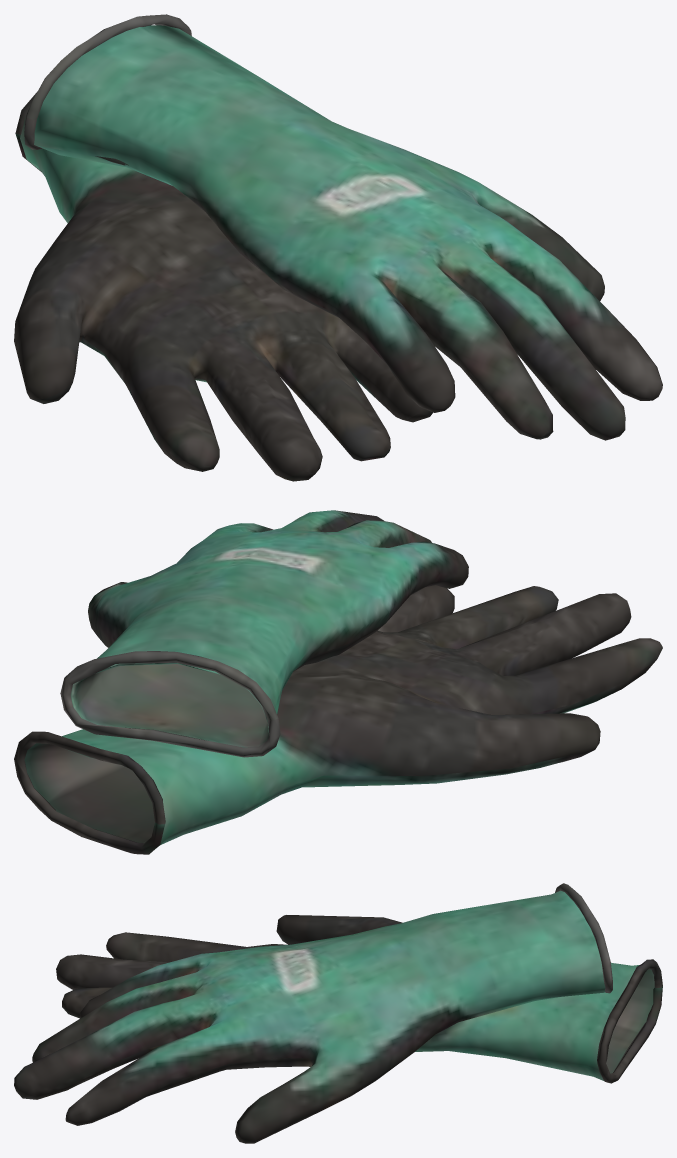
Rendered from gloves.glb.
The picture shows the model from 3 angles, top to bottom: view 1: azimuth 30°, elevation 25°; view 2: azimuth 150°, elevation 25°; view 3: azimuth 270°, elevation 25°; orthographic projection. The views are drawn at different scales.
Parts seen in each view (by area): view 1: garden_gloves_01; view 2: garden_gloves_01; view 3: garden_gloves_01.
Part boxes in pixels (x1=…): garden_gloves_01: x1=14, y1=14, x2=662, y2=481; garden_gloves_01: x1=14, y1=510, x2=662, y2=854; garden_gloves_01: x1=14, y1=883, x2=662, y2=1143.
Bounding box in the file's own units: 0.2259 × 0.0759 × 0.2988.
1 material, 1 textured.
